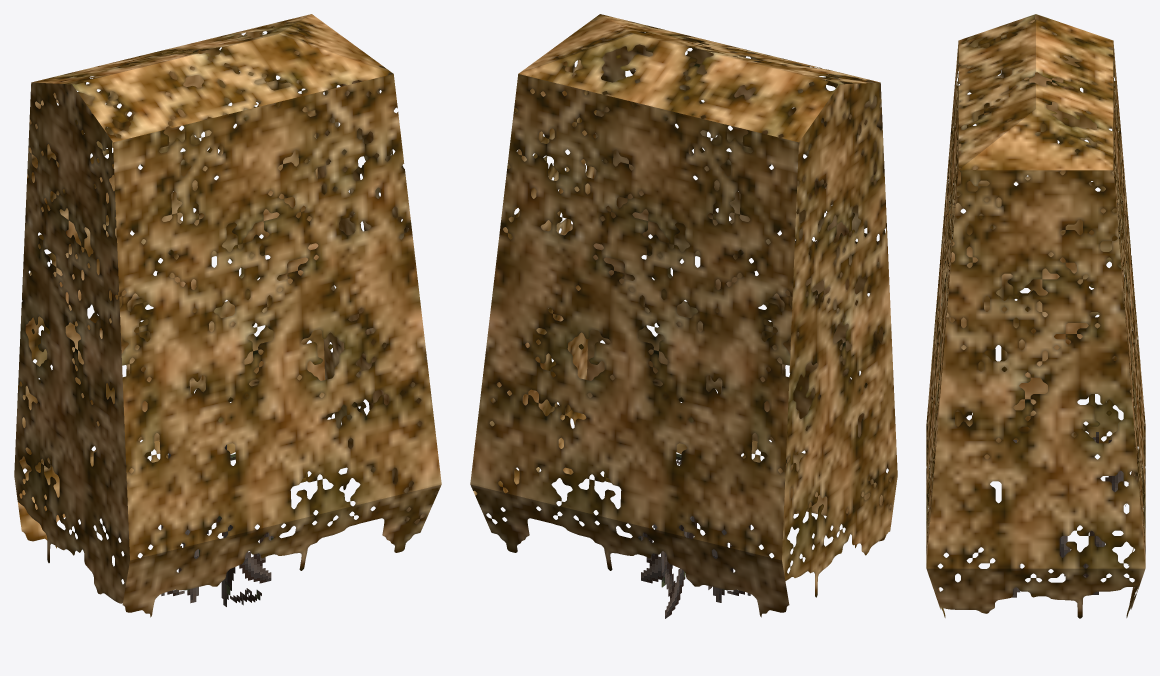
The model's file is bush_tall_half_open_right_roots_autumn.fbx.
3 views of the same model, side by side, from view 1: azimuth 30°, elevation 25°; view 2: azimuth 150°, elevation 25°; view 3: azimuth 270°, elevation 25° (orthographic). The views are drawn at different scales.
Visible parts, largest first — view 1: bush_tall_half_open_right_roots_autumn; view 2: bush_tall_half_open_right_roots_autumn; view 3: bush_tall_half_open_right_roots_autumn.
Boxes of the visible parts, bbox=[...] form: bush_tall_half_open_right_roots_autumn: bbox=[14, 14, 441, 617]; bush_tall_half_open_right_roots_autumn: bbox=[470, 14, 897, 618]; bush_tall_half_open_right_roots_autumn: bbox=[926, 14, 1145, 618].
Bounding box in the file's own units: 112 × 188 × 71.91.
2 materials, 2 textured.
